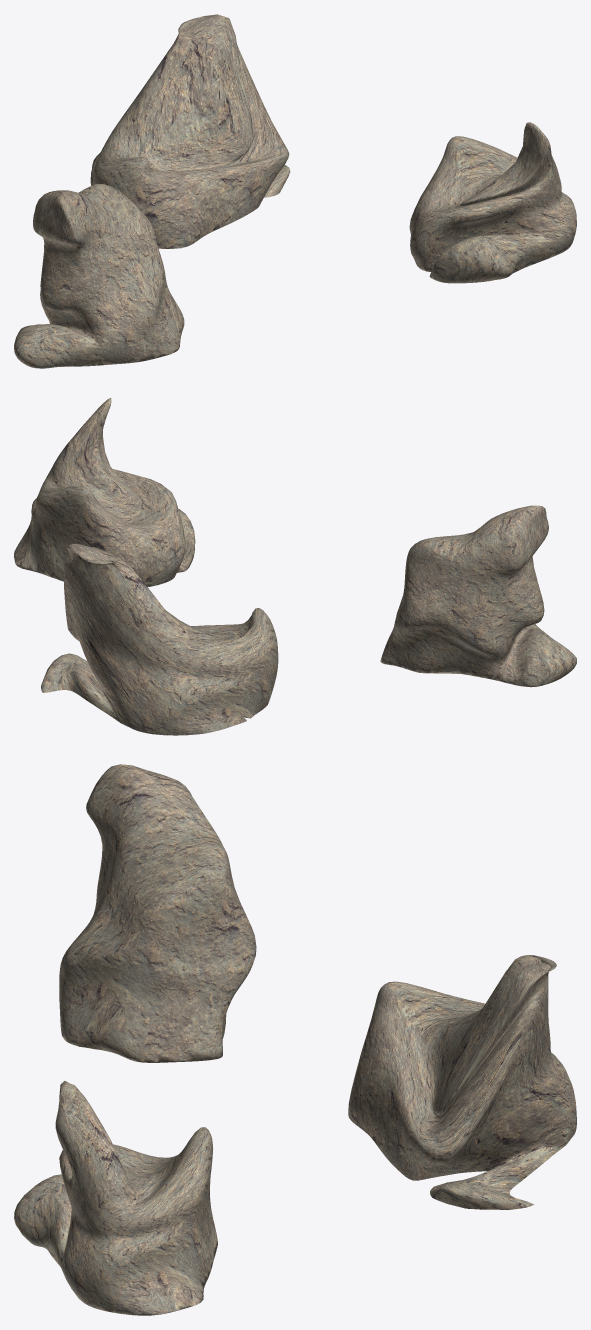
File: RockSite.fbx
3 views of the same model, one above another, from view 1: azimuth 30°, elevation 25°; view 2: azimuth 150°, elevation 25°; view 3: azimuth 270°, elevation 25° (orthographic). The views are drawn at different scales.
Visible parts, largest first — view 1: Cube; view 2: Cube; view 3: Cube.
Boxes of the visible parts, x1,y1,x2,y2 form: Cube: [14, 14, 576, 368]; Cube: [14, 398, 576, 735]; Cube: [14, 764, 576, 1315].
Bounding box in the file's own units: 1899 × 524 × 1242.
